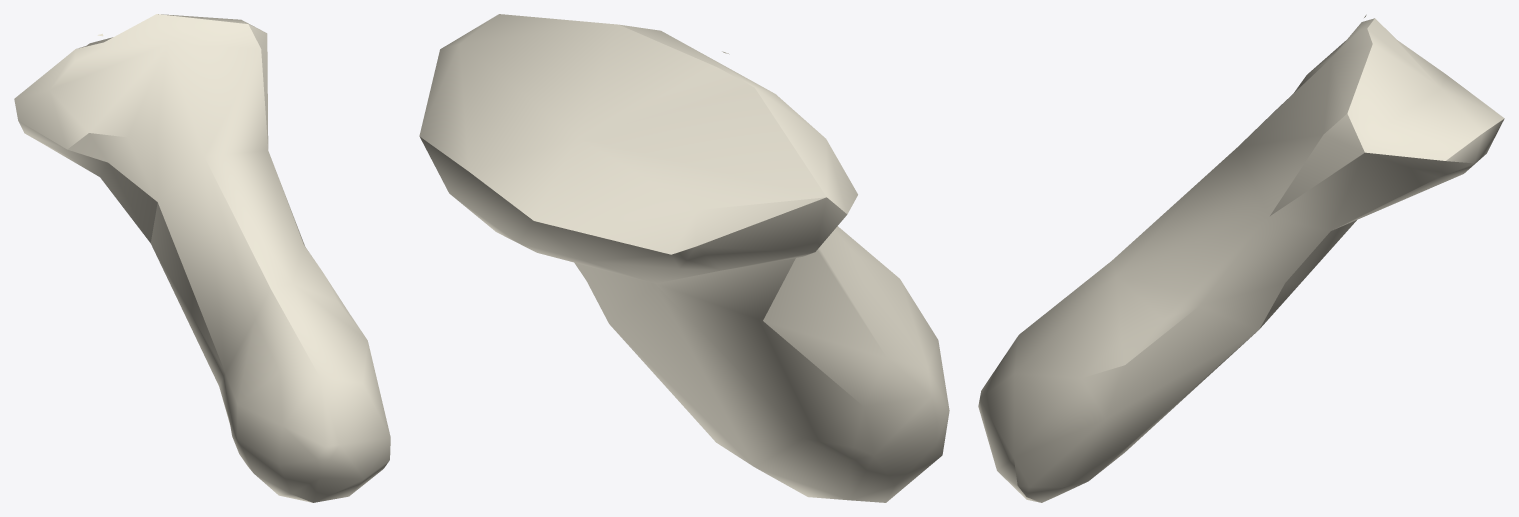
File: fma24463_fj3194.glb
3 renders of one model, left to right at view 1: azimuth 30°, elevation 25°; view 2: azimuth 150°, elevation 25°; view 3: azimuth 270°, elevation 25°, orthographic. The views are drawn at different scales.
Parts seen in each view (by area): view 1: FMA24463_FJ3194; view 2: FMA24463_FJ3194; view 3: FMA24463_FJ3194.
Part boxes in pixels (x1=…): FMA24463_FJ3194: x1=14, y1=14, x2=390, y2=502; FMA24463_FJ3194: x1=419, y1=14, x2=949, y2=502; FMA24463_FJ3194: x1=978, y1=14, x2=1504, y2=502.
Bounding box in the file's own units: 0.00831 × 0.0125 × 0.0137.
